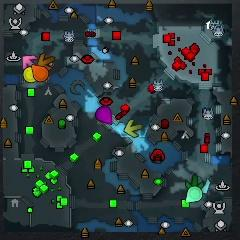p2: (185, 186, 204, 204)
p3: (95, 107, 113, 125)
p4: (24, 67, 37, 82)
p5: (31, 64, 49, 81)
x1: (22, 53, 36, 71)
x2: (124, 119, 143, 136)
x3: (199, 175, 211, 192)
x4: (185, 174, 204, 190)
x5: (37, 54, 56, 71)
